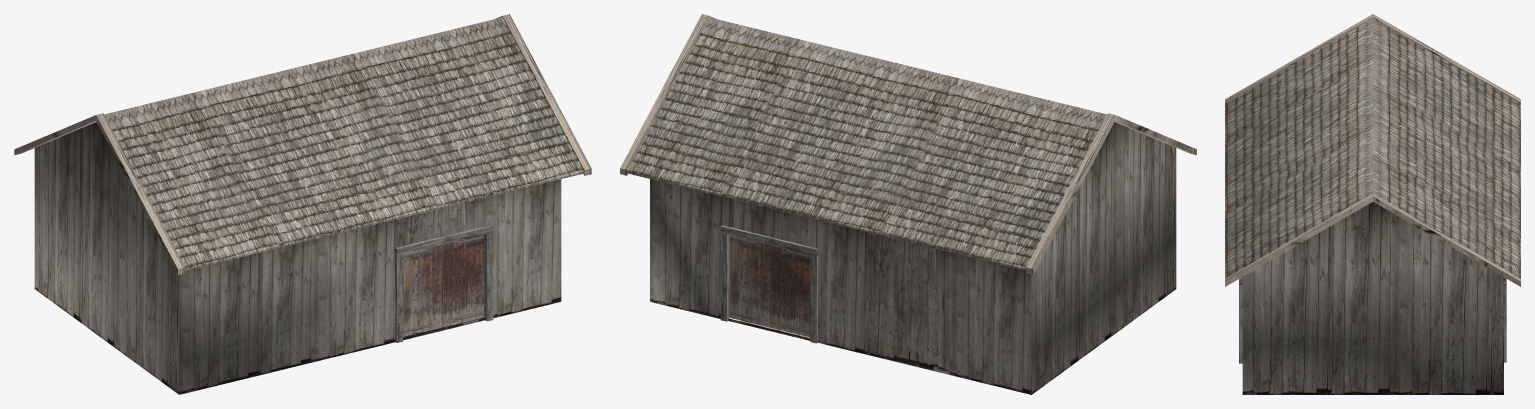
Rendered from granja_dos.glb.
3 renders of one model, left to right at view 1: azimuth 30°, elevation 25°; view 2: azimuth 150°, elevation 25°; view 3: azimuth 270°, elevation 25°, orthographic. The views are drawn at different scales.
Parts seen in each view (by area): view 1: wh anb dach006; view 2: wh anb dach006; view 3: wh anb dach006.
Part boxes in pixels (<box>): wh anb dach006: <box>14,14,591,394</box>; wh anb dach006: <box>620,14,1196,394</box>; wh anb dach006: <box>1225,14,1520,394</box>.
Size of the model in its own units: 9.9 by 5.26 by 6.79.
3 materials, 3 textured.
